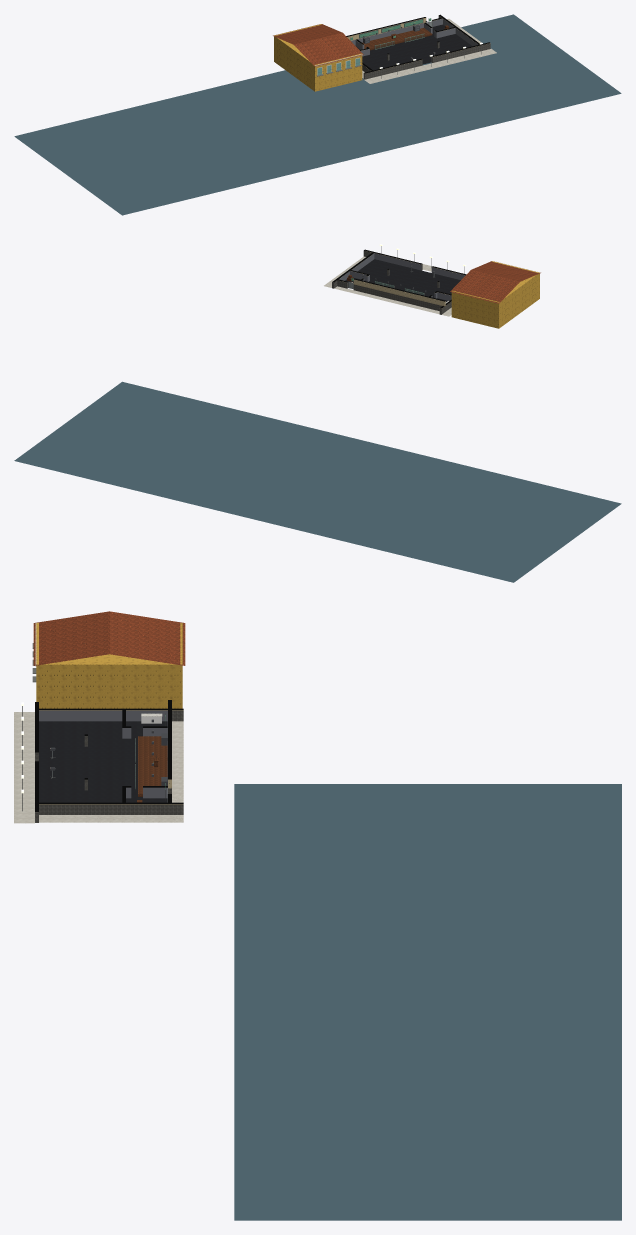
File: marques_comicio.glb
3 renders of one model, top to bottom at view 1: azimuth 30°, elevation 25°; view 2: azimuth 150°, elevation 25°; view 3: azimuth 270°, elevation 25°, orthographic. The views are drawn at different scales.
Parts seen in each view (by area): view 1: Lapa_lagoon, Lapa_side_facade_yellow, Lapa_side_roof, Lapa_stage_floor, Lapa_pedra, Lapa_concrete, Lapa_acoustic, Lapa_wood, Lapa_cap; view 2: Lapa_lagoon, Lapa_side_facade_yellow, Lapa_stage_floor, Lapa_side_roof, Lapa_acoustic, Lapa_concrete, Lapa_pedra, Lapa_cap, Lapa_plaster; view 3: Lapa_lagoon, Lapa_stage_floor, Lapa_side_facade_yellow, Lapa_side_roof, Lapa_pedra, Lapa_acoustic, Lapa_concrete, Lapa_cap, Lapa_wood.
Boxes of the visible parts, left/top/right/bottom form: Lapa_lagoon: left=14, top=14, right=621, bottom=215; Lapa_side_facade_yellow: left=274, top=24, right=362, bottom=91; Lapa_side_roof: left=273, top=24, right=363, bottom=66; Lapa_stage_floor: left=356, top=24, right=471, bottom=70; Lapa_pedra: left=362, top=19, right=496, bottom=83; Lapa_concrete: left=362, top=16, right=490, bottom=79; Lapa_acoustic: left=351, top=18, right=478, bottom=56; Lapa_wood: left=362, top=25, right=449, bottom=50; Lapa_cap: left=346, top=14, right=489, bottom=73; Lapa_lagoon: left=14, top=381, right=621, bottom=582; Lapa_side_facade_yellow: left=451, top=261, right=539, bottom=328; Lapa_stage_floor: left=345, top=259, right=460, bottom=302; Lapa_side_roof: left=450, top=261, right=540, bottom=303; Lapa_acoustic: left=339, top=253, right=465, bottom=300; Lapa_concrete: left=332, top=250, right=451, bottom=314; Lapa_pedra: left=324, top=256, right=451, bottom=316; Lapa_cap: left=332, top=249, right=466, bottom=308; Lapa_plaster: left=342, top=251, right=455, bottom=308; Lapa_lagoon: left=234, top=784, right=621, bottom=1220; Lapa_stage_floor: left=39, top=721, right=167, bottom=802; Lapa_side_facade_yellow: left=36, top=623, right=182, bottom=708; Lapa_side_roof: left=33, top=611, right=185, bottom=665; Lapa_pedra: left=14, top=712, right=183, bottom=823; Lapa_acoustic: left=39, top=710, right=167, bottom=798; Lapa_concrete: left=35, top=710, right=183, bottom=822; Lapa_cap: left=35, top=700, right=183, bottom=811; Lapa_wood: left=137, top=736, right=167, bottom=802.
Size of the model in its own units: 120 by 37.4 by 70.6.
29 materials, 9 textured.
